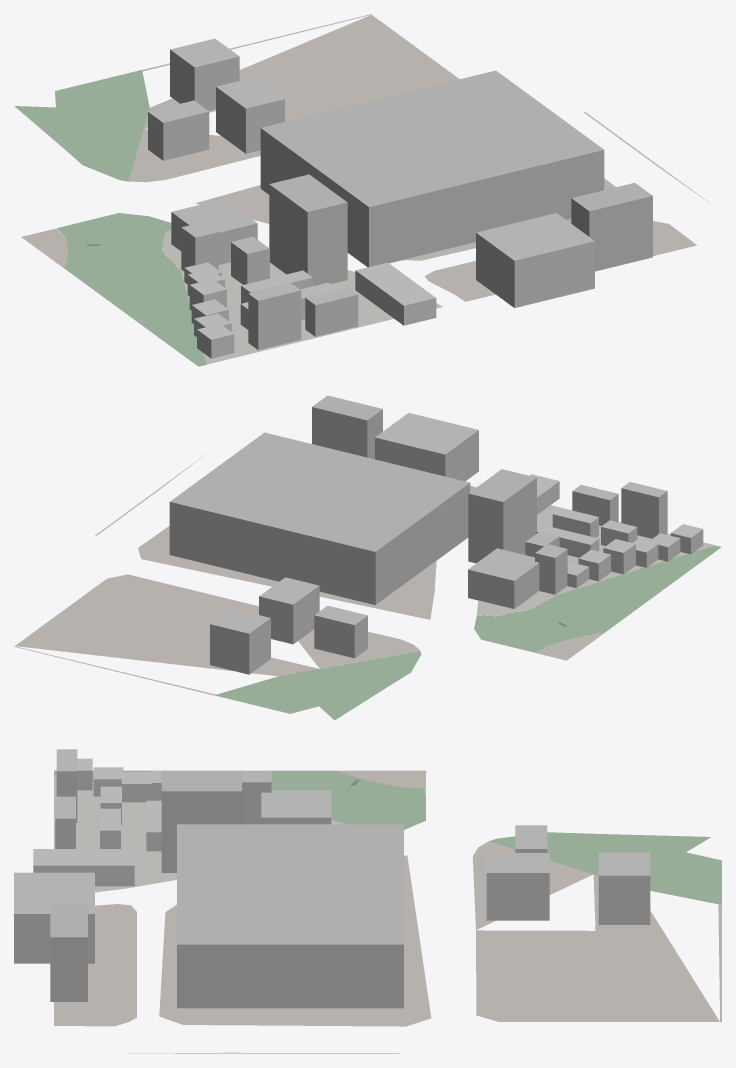
The model's file is 117_76_mid.glb.
3 renders of one model, top to bottom at view 1: azimuth 30°, elevation 25°; view 2: azimuth 150°, elevation 25°; view 3: azimuth 270°, elevation 25°, orthographic. The views are drawn at different scales.
Size of the model in its own units: 500 by 68.11 by 530.
